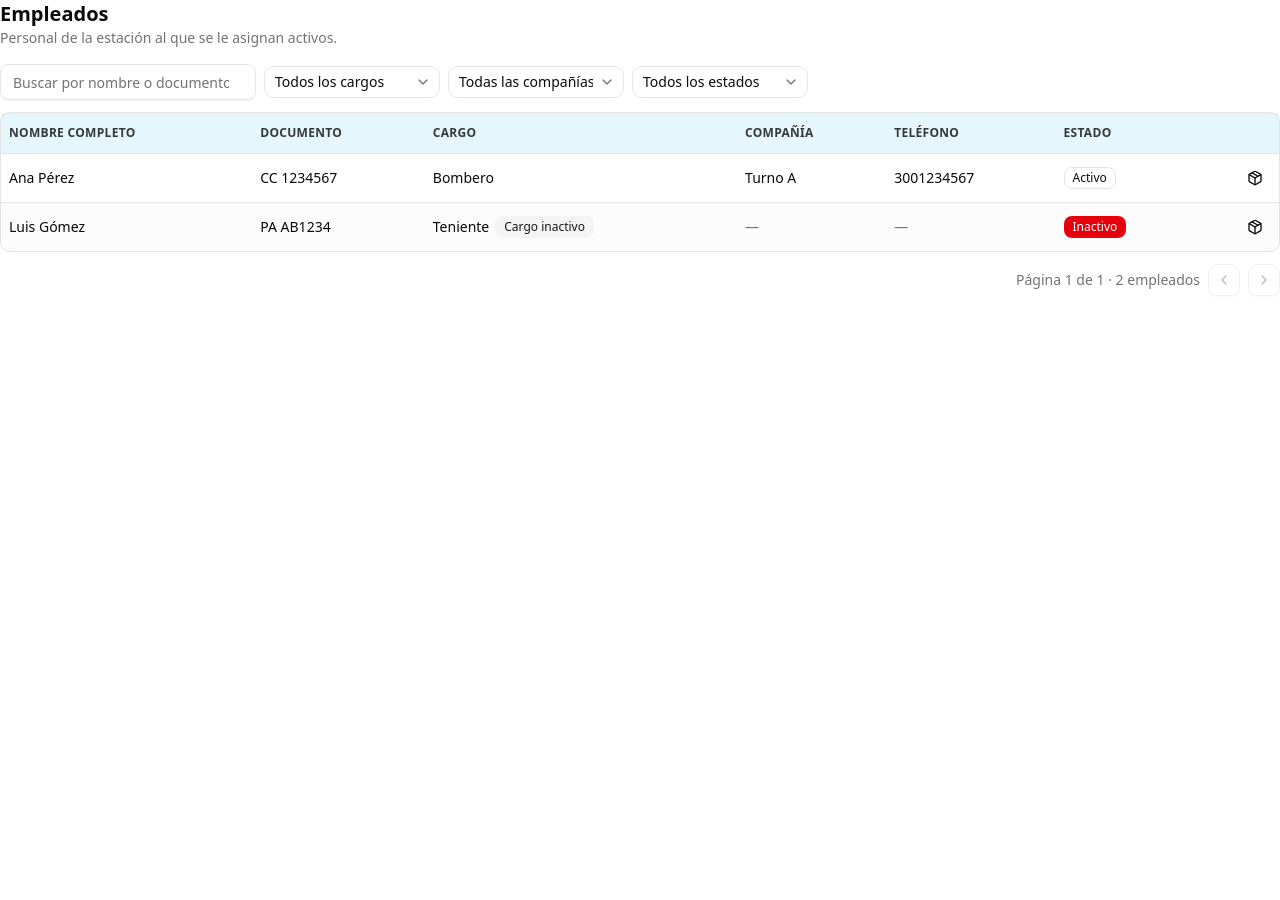
Scenario: EmpleadosScreen (/empleados, 004 US1, US3, RN-022) › "Ver tenencias" muestra lo asignado o prestado, también sin empleados.gestionar (007 US3-2, D-007)
Click the button named "Ver tenencias de Ana Pérez". click: (1255, 178)
box: 1239,162 -> 1271,194
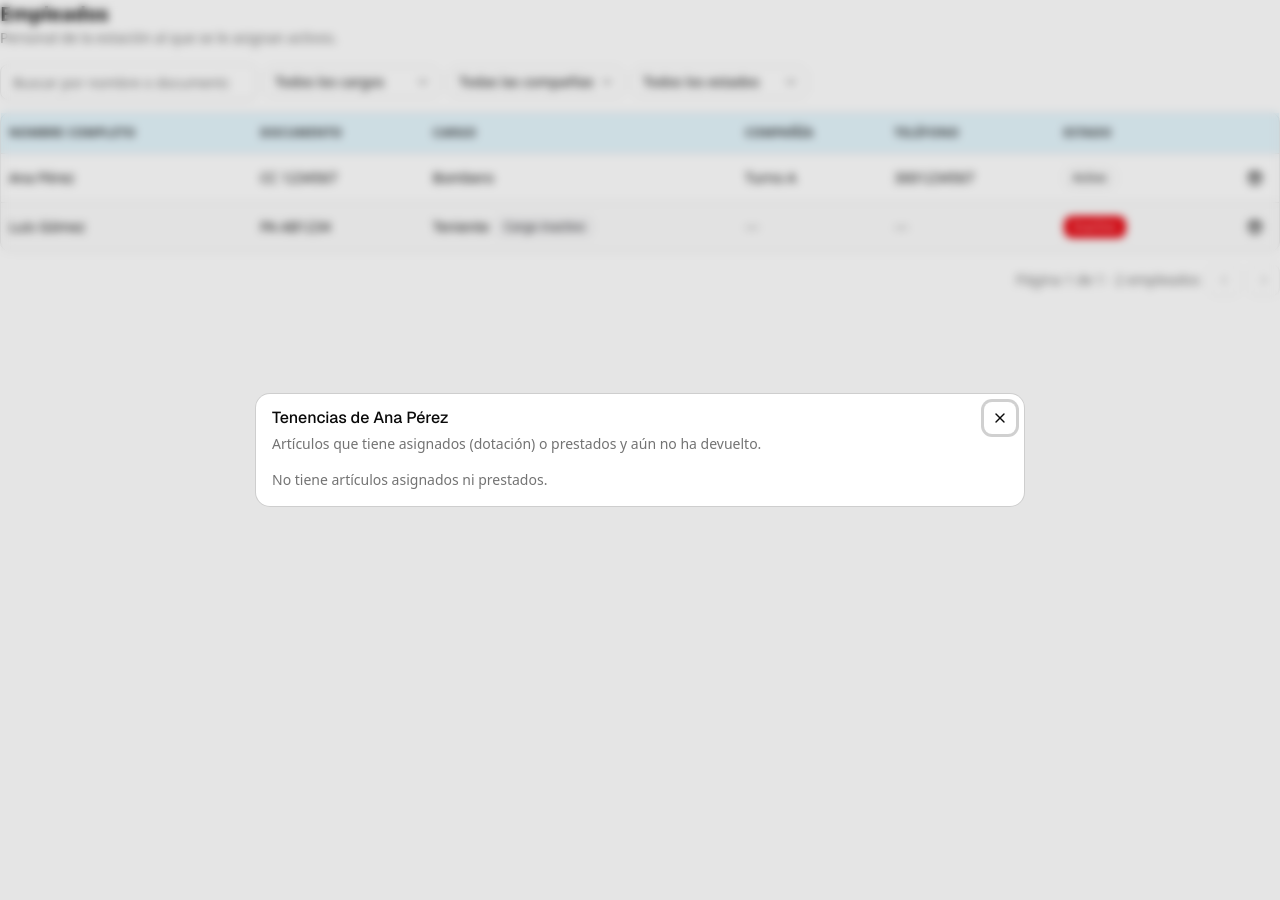
Now the dialog "Tenencias de Ana Pérez" is shown, box 256,394 -> 1024,506
Now the text "No tiene artículos asignados ni prestados." is shown, box 272,470 -> 547,489
